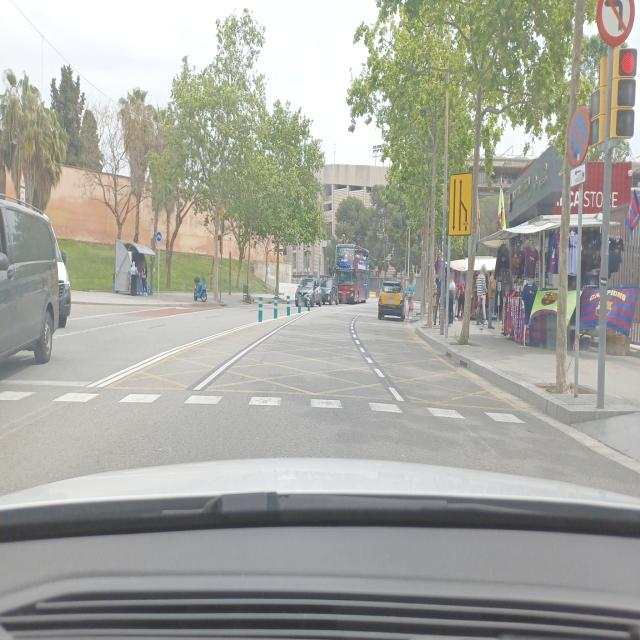bike: (189, 273, 211, 303)
car: (0, 192, 64, 397), (56, 248, 72, 328), (377, 278, 405, 322), (296, 276, 320, 308), (318, 276, 338, 306)
